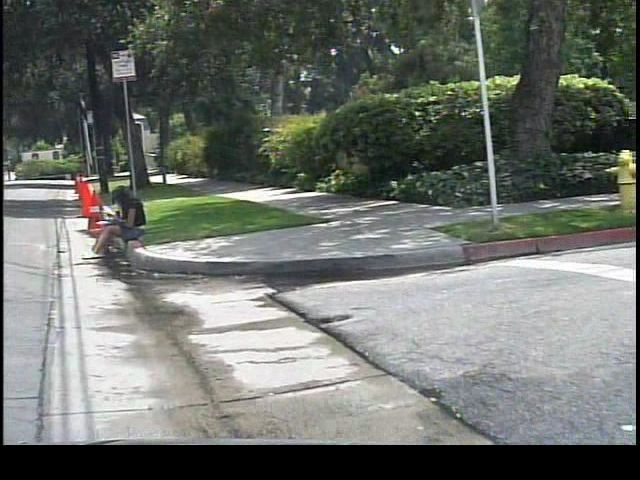person: (76, 184, 152, 262)
